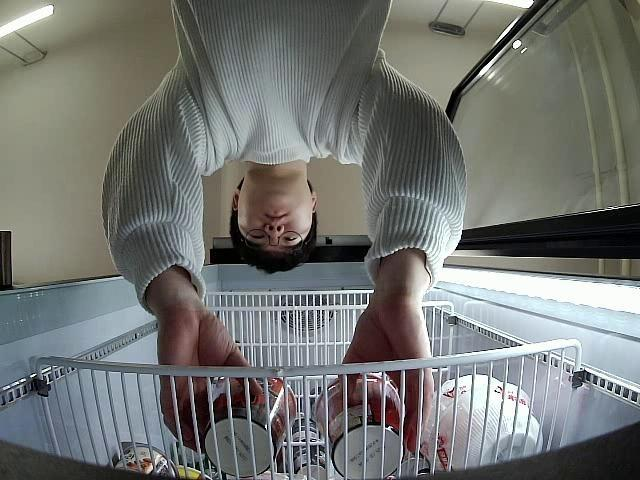02_shinRamen_S: (202, 372, 298, 479), (316, 373, 406, 478)
